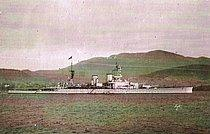MIL_Ship: (8, 69, 193, 95)
